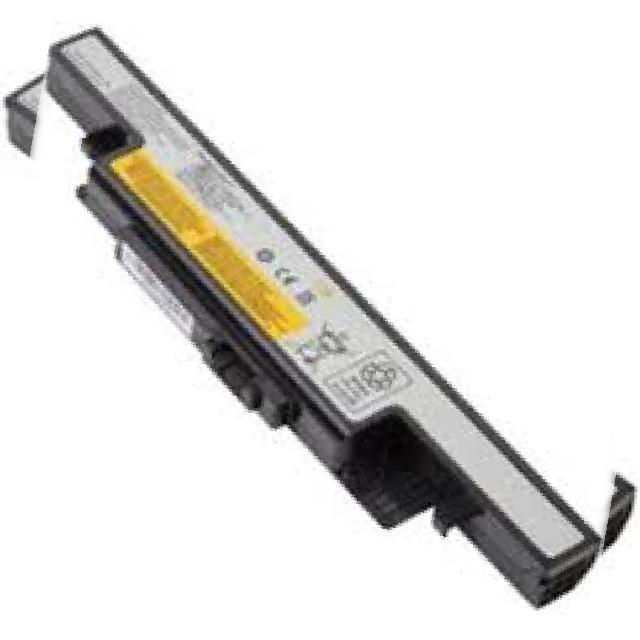Battery: (46, 19, 602, 605)
